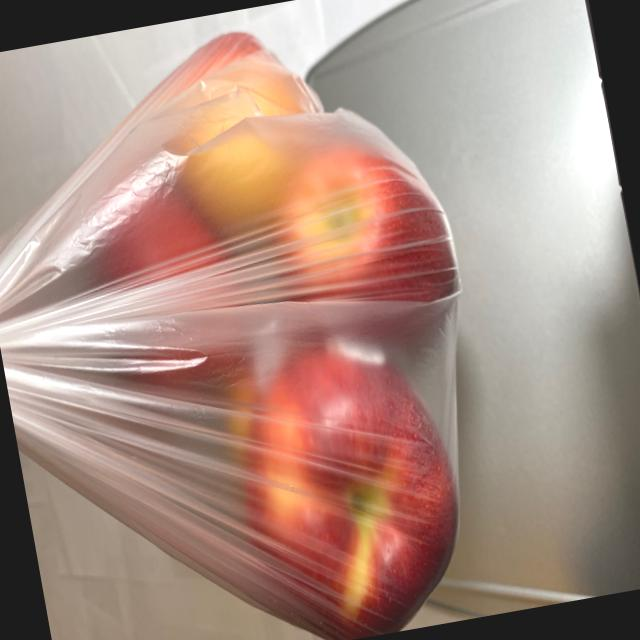apple: (43, 0, 519, 640)
